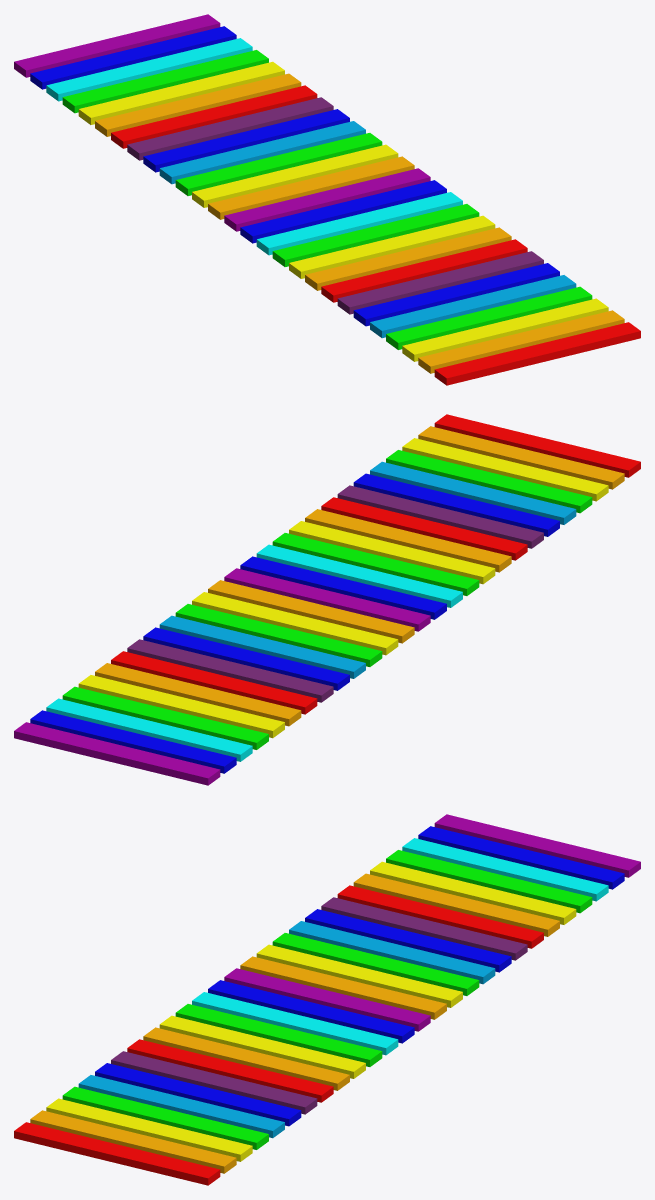
The model's file is Bridge lvl2.fbx.
3 renders of one model, top to bottom at view 1: azimuth 30°, elevation 25°; view 2: azimuth 150°, elevation 25°; view 3: azimuth 330°, elevation 25°, orthographic.
Visible parts, largest first — view 1: Bridge Lvl2; view 2: Bridge Lvl2; view 3: Bridge Lvl2.
Part boxes in pixels (x1,y1,x2,y2): Bridge Lvl2: [14, 14, 640, 385]; Bridge Lvl2: [14, 414, 640, 785]; Bridge Lvl2: [14, 814, 640, 1185].
Bounding box in the file's own units: 614 × 21.92 × 2367.
